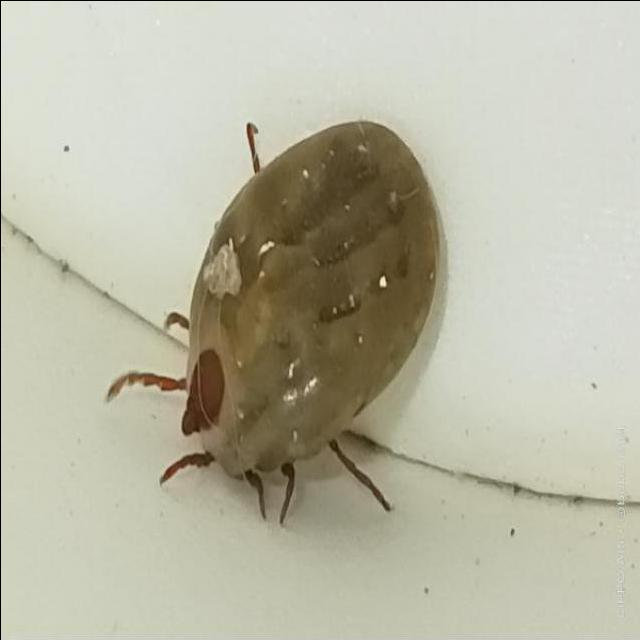Rhipicephalus Sanguineus-F-Fed: (93, 117, 449, 526)
